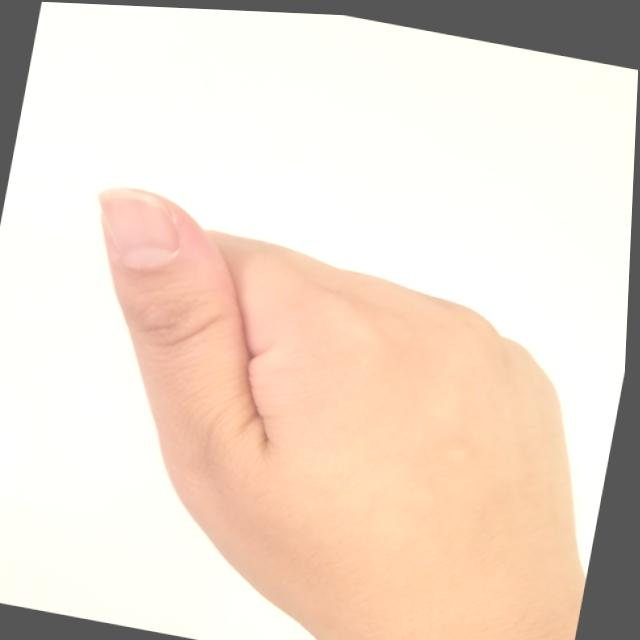A: (12, 165, 634, 639)
